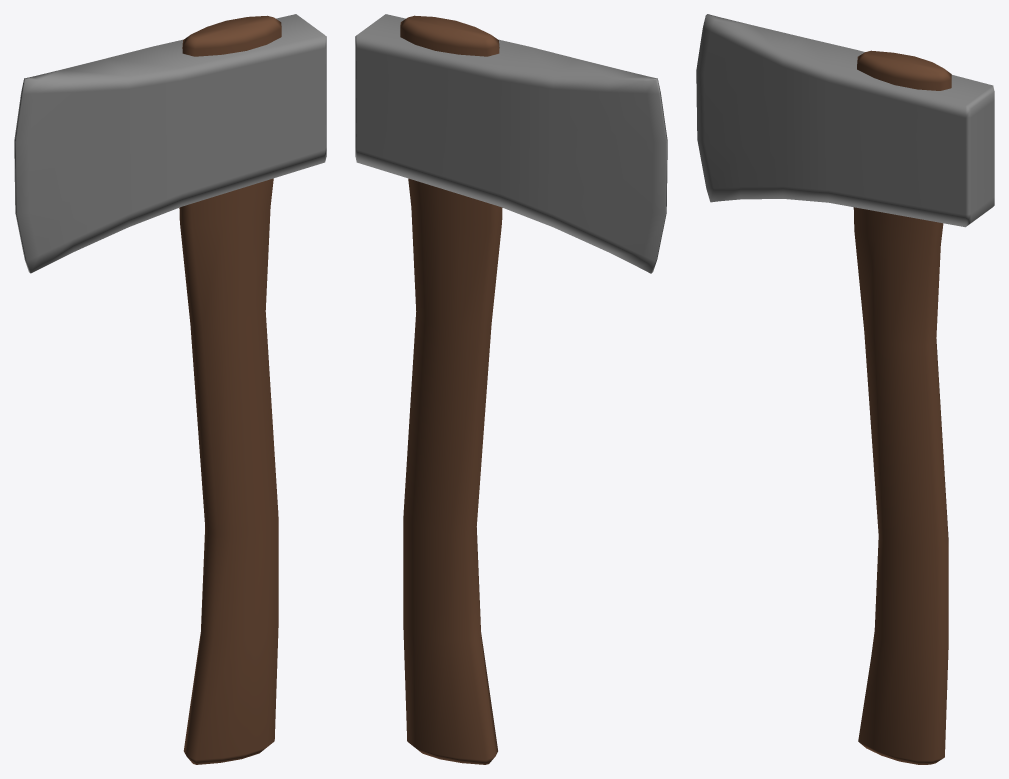
Rendered from AXE.fbx.
3 renders of one model, left to right at view 1: azimuth 30°, elevation 25°; view 2: azimuth 150°, elevation 25°; view 3: azimuth 330°, elevation 25°, orthographic. The views are drawn at different scales.
Visible parts, largest first — view 1: axeHead, axe_ID; view 2: axeHead, axe_ID; view 3: axeHead, axe_ID.
Boxes of the visible parts, bbox=[...] form: axeHead: bbox=[14, 14, 326, 273]; axe_ID: bbox=[179, 15, 281, 764]; axeHead: bbox=[355, 14, 667, 273]; axe_ID: bbox=[400, 15, 502, 764]; axeHead: bbox=[696, 14, 994, 227]; axe_ID: bbox=[853, 50, 951, 764].
Bounding box in the file's own units: 5.97 × 13.87 × 1.
